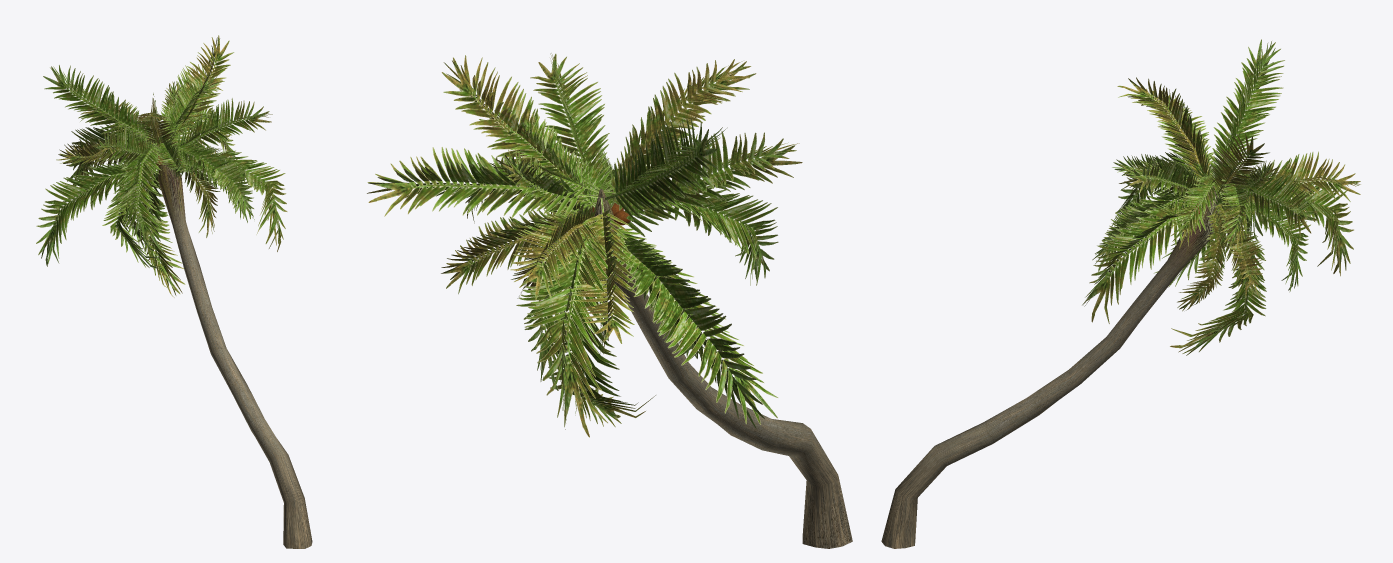
File: coconut_palm7.fbx
3 views of the same model, side by side, from view 1: azimuth 30°, elevation 25°; view 2: azimuth 150°, elevation 25°; view 3: azimuth 270°, elevation 25° (orthographic). The views are drawn at different scales.
Parts seen in each view (by area): view 1: coconut_palm7_leaves, coconut_palm7_trunk; view 2: coconut_palm7_leaves, coconut_palm7_trunk; view 3: coconut_palm7_leaves, coconut_palm7_trunk.
Boxes of the visible parts, bbox=[...] form: coconut_palm7_leaves: bbox=[36, 35, 287, 297]; coconut_palm7_trunk: bbox=[158, 148, 312, 548]; coconut_palm7_leaves: bbox=[367, 53, 802, 437]; coconut_palm7_trunk: bbox=[593, 189, 852, 548]; coconut_palm7_leaves: bbox=[1082, 39, 1360, 355]; coconut_palm7_trunk: bbox=[881, 187, 1219, 548].
Size of the model in its own units: 318 by 493 by 463.
